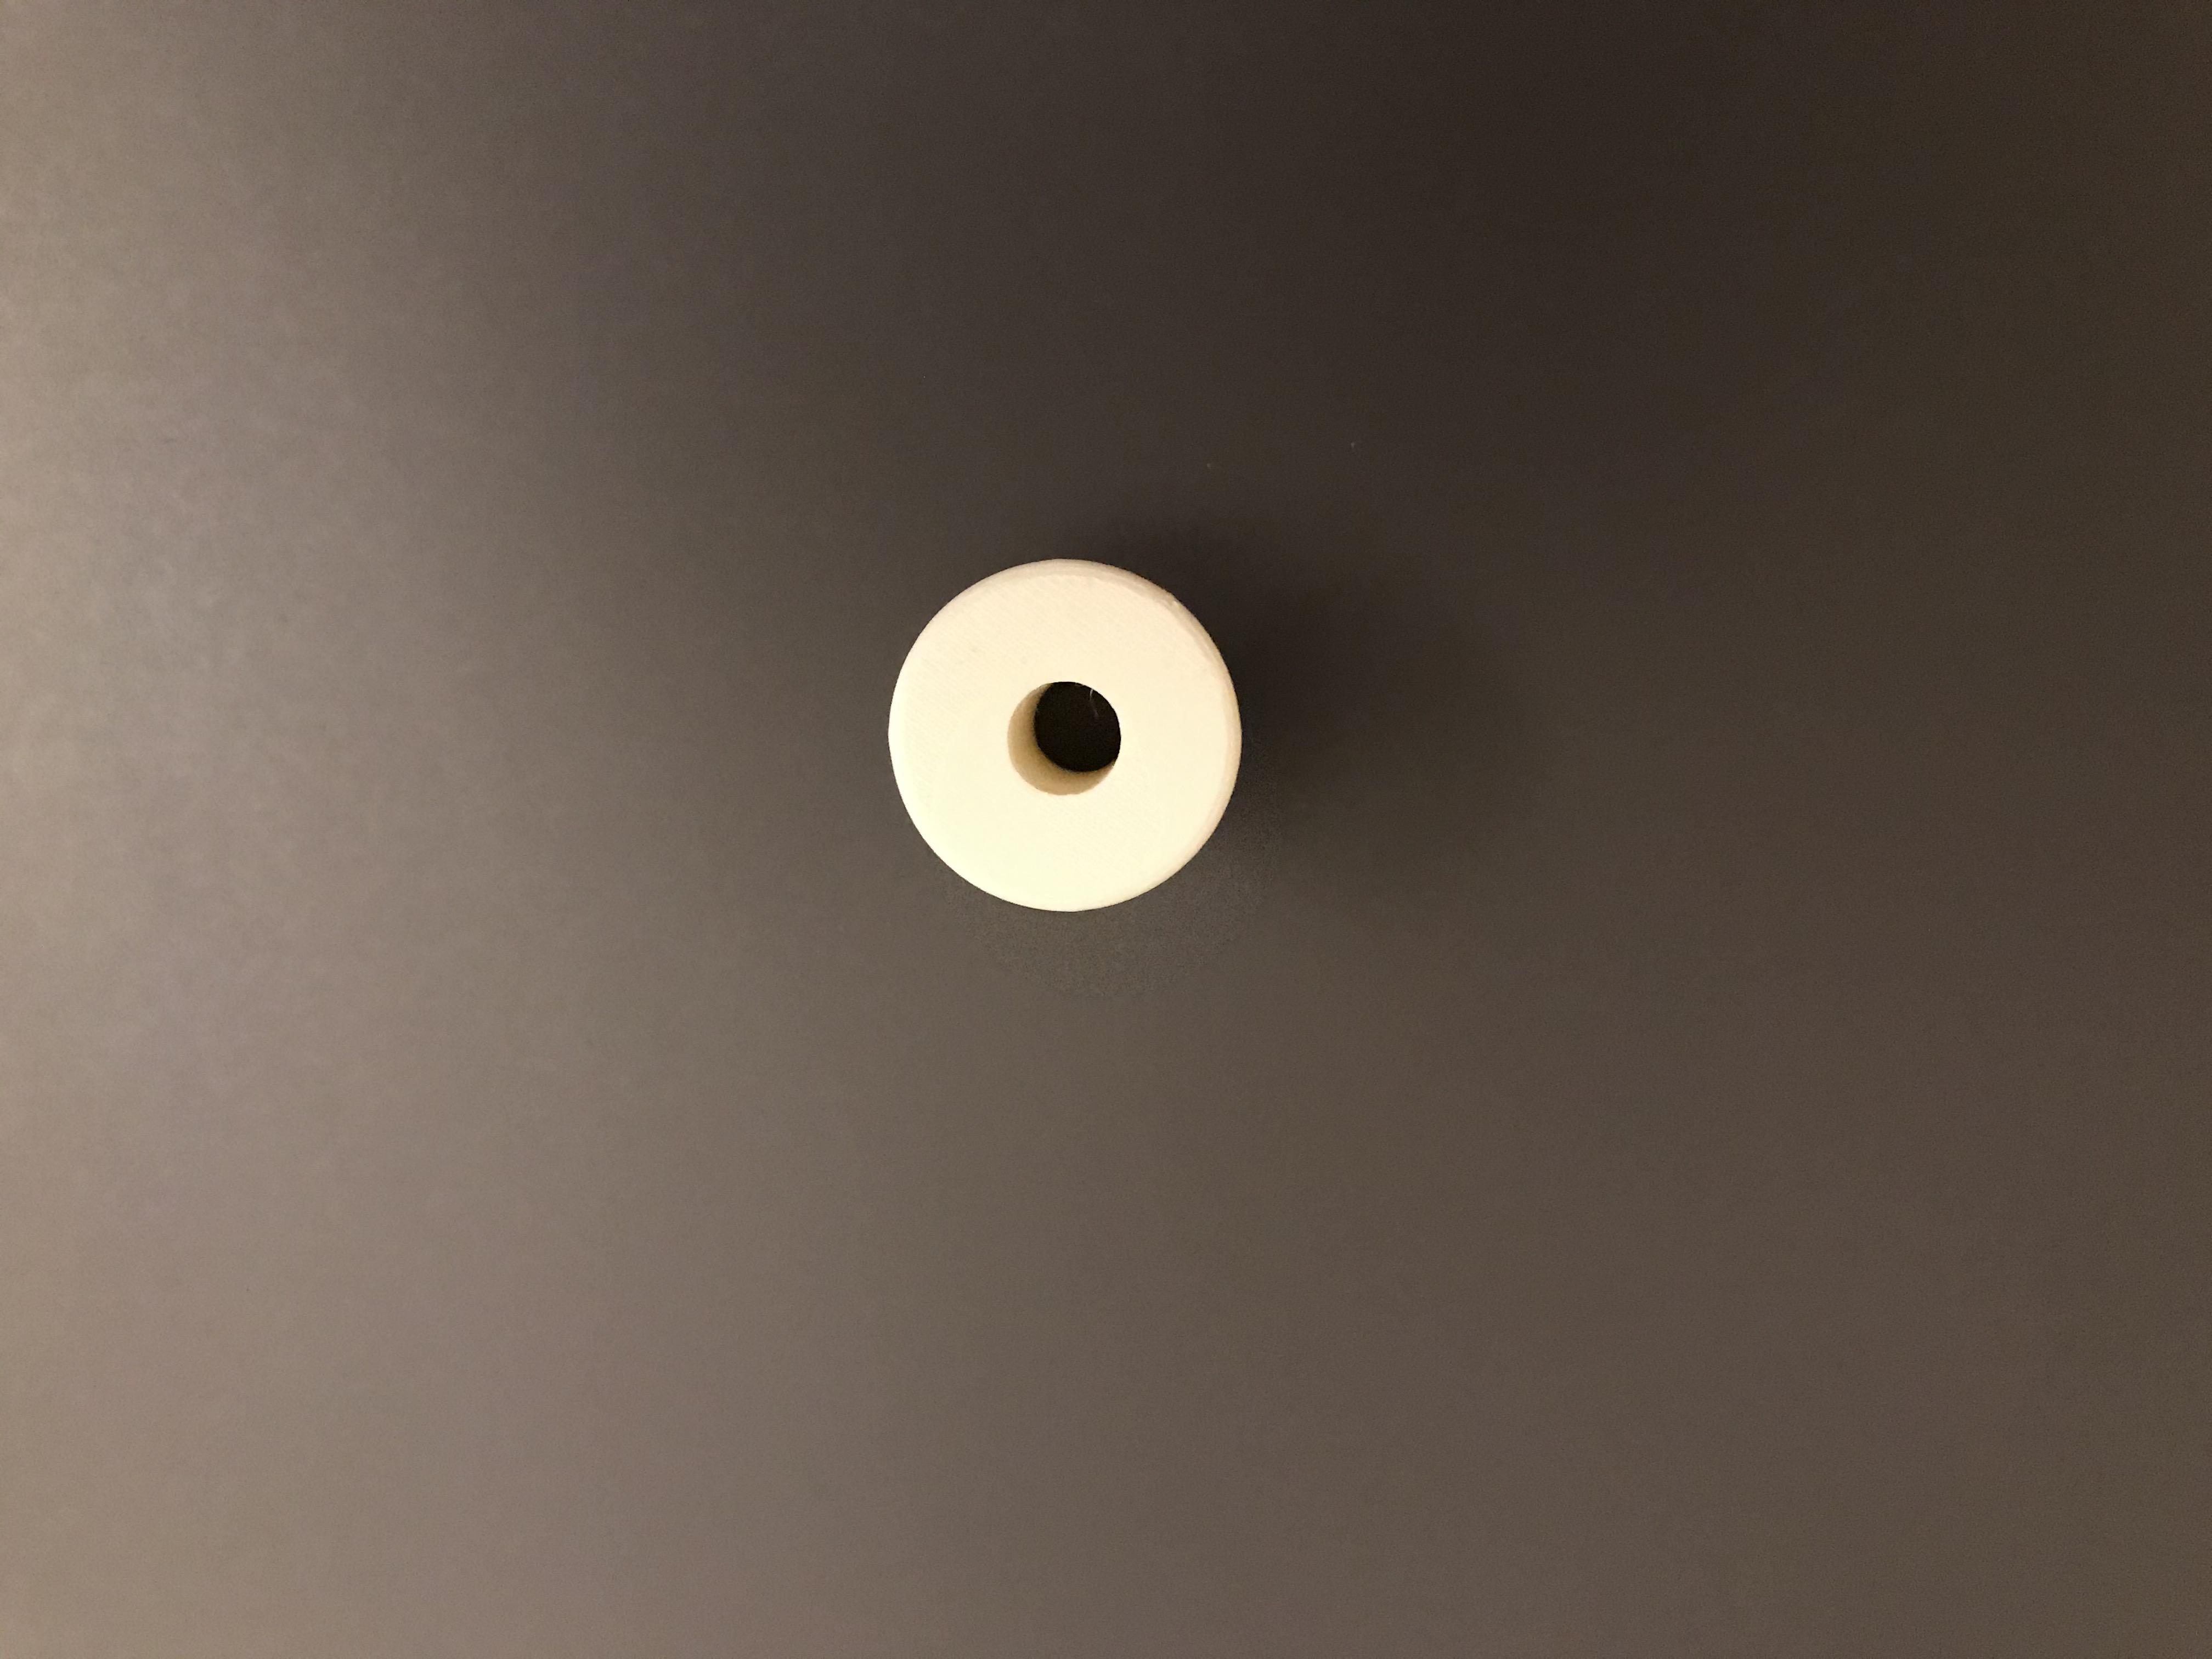White Cone: (890, 552, 1245, 917)
